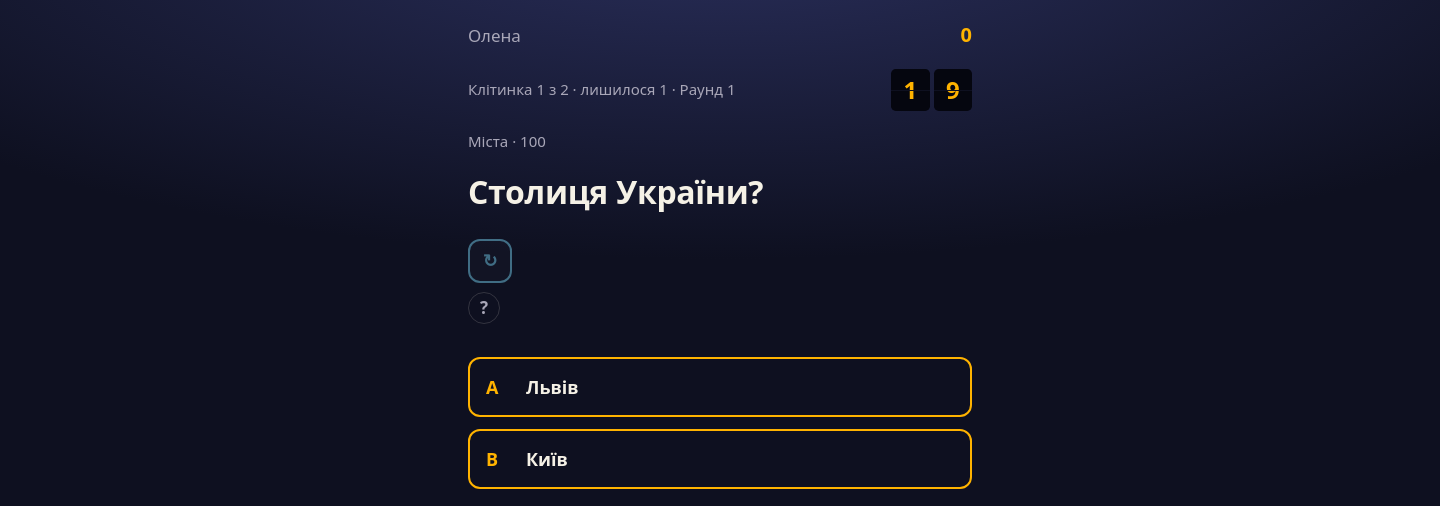
Scenario: a game with no host never says «ведучий» › a retry buff blocked on a manual board cell explains itself without the word
The image size is (1440, 506).
Click the button named "Друга спроба" at (490, 261), box 468,239 -> 512,283
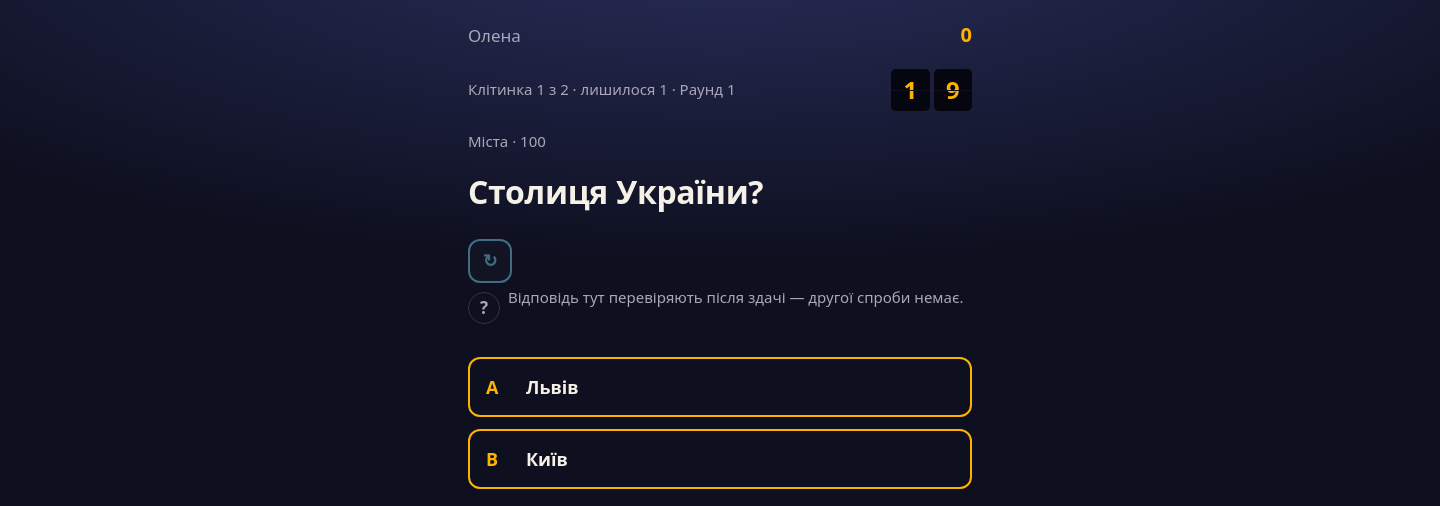
Result: the text with class "buff-why" reads "Відповідь тут перевіряють після здачі — другої спроби немає." at 508,287 -> 963,307
